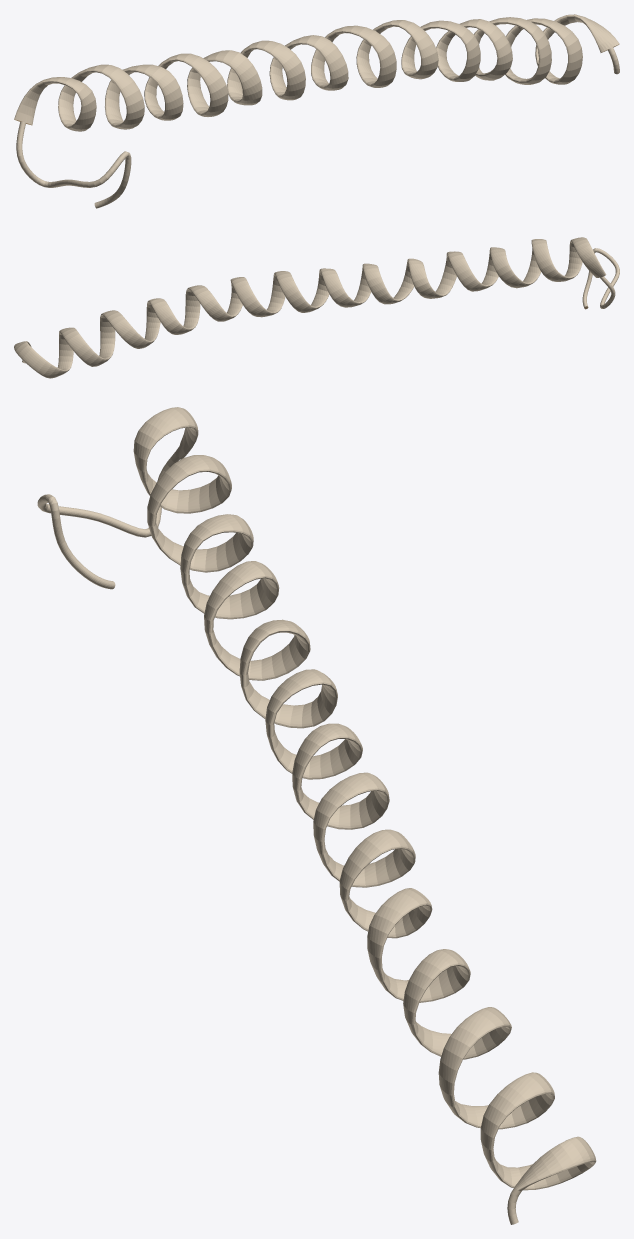
Rendered from SheetHelixrCoil.dae.
3 views of the same model, one above another, from view 1: azimuth 30°, elevation 25°; view 2: azimuth 150°, elevation 25°; view 3: azimuth 270°, elevation 25° (orthographic). The views are drawn at different scales.
Parts seen in each view (by area): view 1: Shape_IndexedTriangleStripSet_054; view 2: Shape_IndexedTriangleStripSet_054; view 3: Shape_IndexedTriangleStripSet_054.
Part boxes in pixels (x1=…): Shape_IndexedTriangleStripSet_054: x1=14, y1=14, x2=619, y2=208; Shape_IndexedTriangleStripSet_054: x1=14, y1=237, x2=619, y2=378; Shape_IndexedTriangleStripSet_054: x1=37, y1=407, x2=596, y2=1224.
Size of the model in its own units: 69.31 by 33.11 by 22.98.
